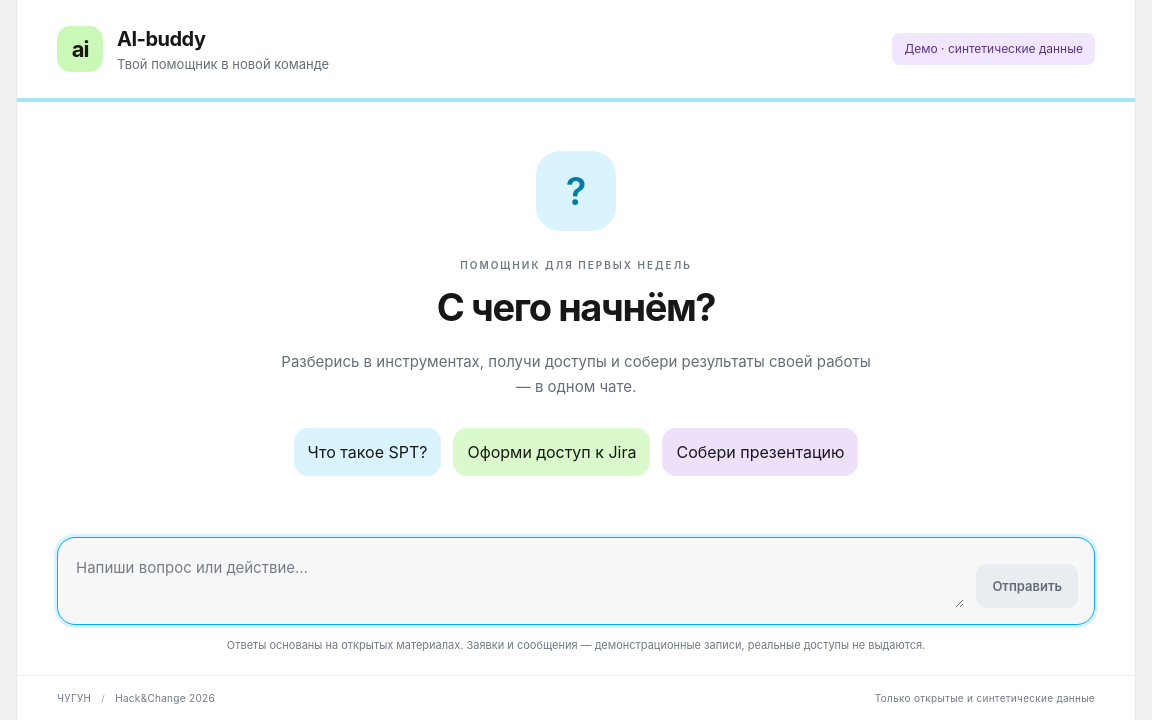
Test: Server-owned chat › shows examples and sends a suggestion through the chat endpoint
Expected: the button "Что такое SPT?" is shown, [294,428,442,476]
Expected: the button "Собери презентацию" is shown, [662,428,858,476]
Step 1. Click the button "Оформи доступ к Jira" → (552, 452), box [454,428,650,476]
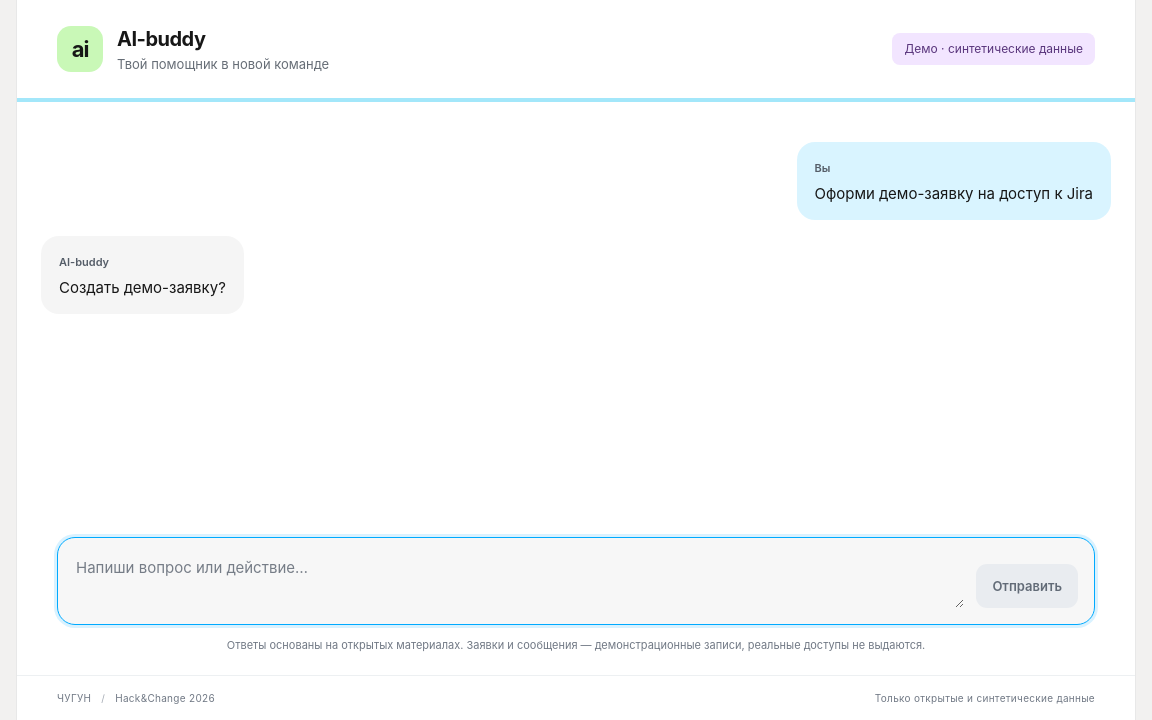
Expected: the text "Создать демо-заявку?" is shown, [59,276,226,300]
